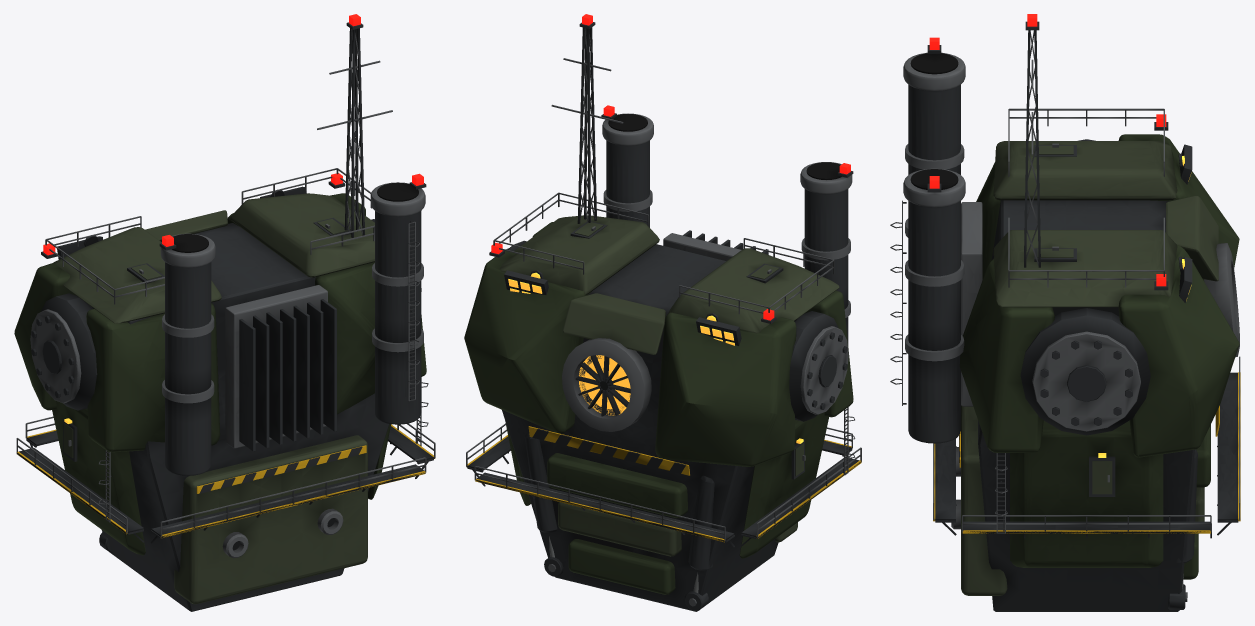
File: bastion.torso.glb
3 renders of one model, left to right at view 1: azimuth 30°, elevation 25°; view 2: azimuth 150°, elevation 25°; view 3: azimuth 270°, elevation 25°, orthographic. The views are drawn at different scales.
Size of the model in its own units: 27.9 by 41.14 by 21.31.
